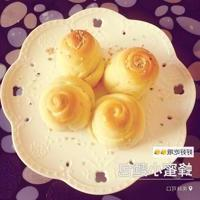biodegradable: (38, 74, 96, 132), (87, 92, 145, 149), (103, 46, 160, 101), (55, 29, 106, 90)
